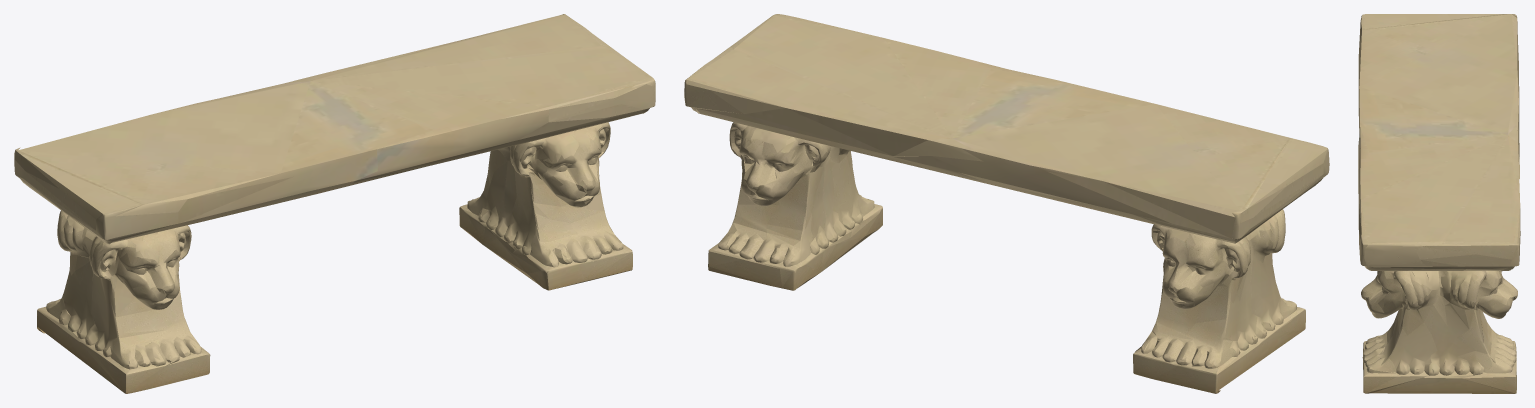
The model's file is stone-bench.glb.
3 renders of one model, left to right at view 1: azimuth 30°, elevation 25°; view 2: azimuth 150°, elevation 25°; view 3: azimuth 270°, elevation 25°, orthographic. The views are drawn at different scales.
Parts seen in each view (by area): view 1: stone-bench; view 2: stone-bench; view 3: stone-bench.
Boxes of the visible parts, x1,y1,x2,y2 form: stone-bench: (14, 14, 655, 393); stone-bench: (684, 14, 1329, 393); stone-bench: (1358, 14, 1520, 393).
Size of the model in its own units: 1.9 by 0.6103 by 0.5609.
Materials: 1 (1 with a texture image).
